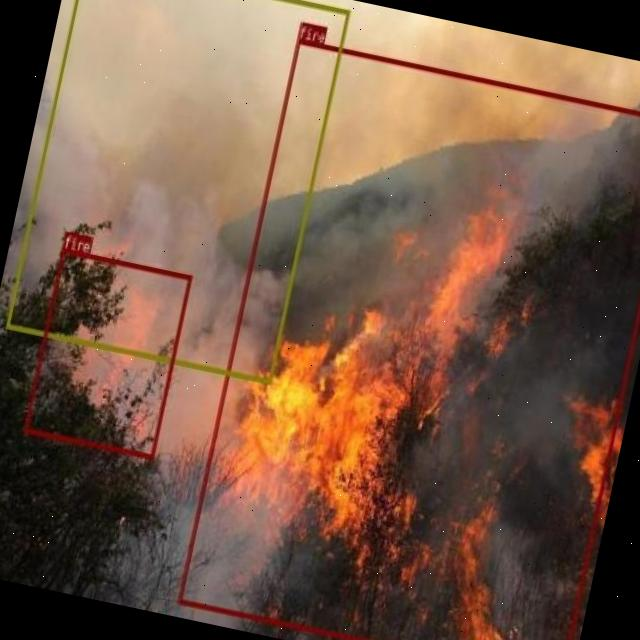fire: (176, 38, 640, 640), (22, 246, 192, 458)
smoke: (4, 0, 349, 384)
